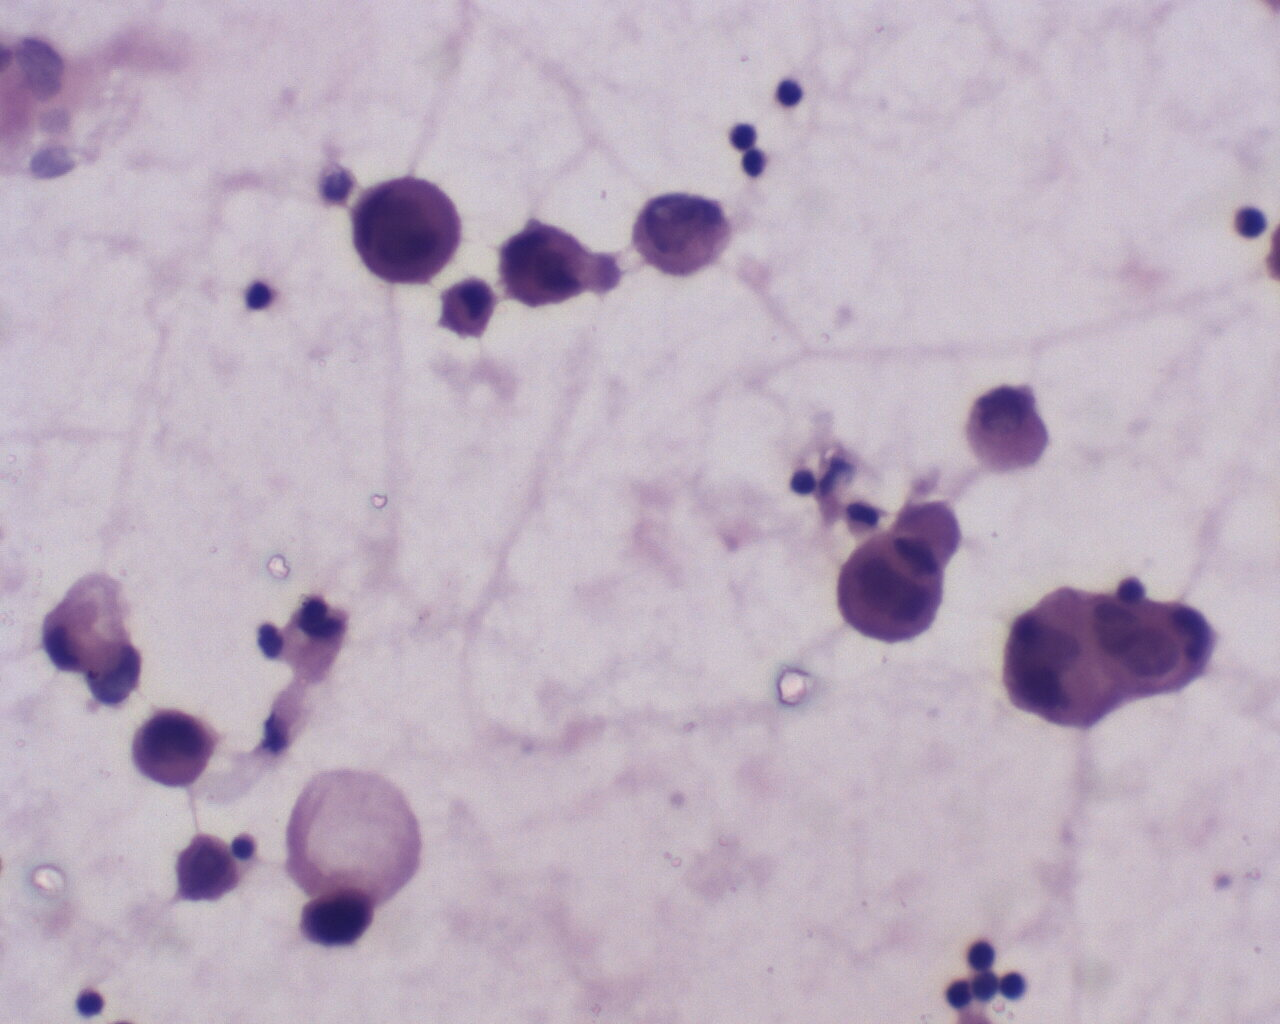ab: (822, 494, 972, 646), (345, 174, 461, 282), (632, 191, 729, 280), (499, 220, 591, 308), (129, 706, 218, 793), (293, 885, 378, 949), (173, 833, 240, 904)
lymph: (239, 267, 284, 318), (782, 462, 817, 498), (775, 77, 805, 108)
